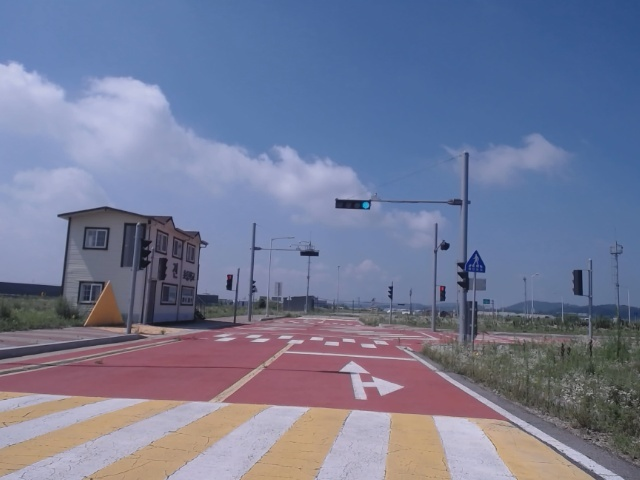straight_green_4: (334, 200, 371, 210)
